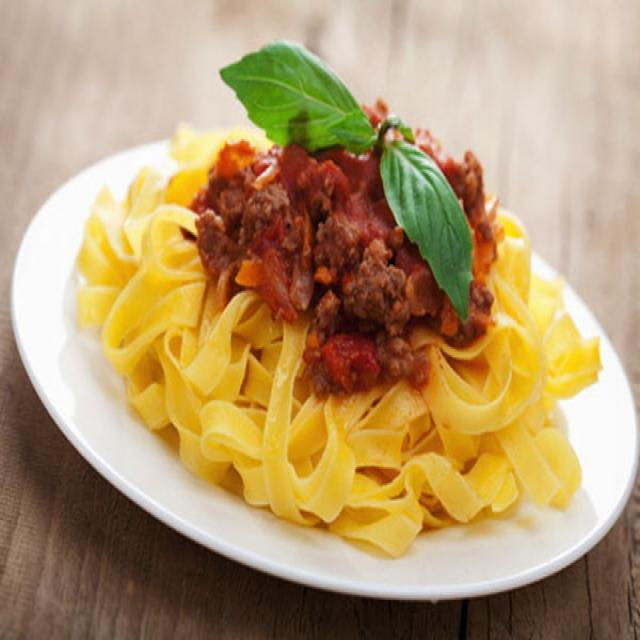Pasta al ragu: (78, 29, 607, 563)
